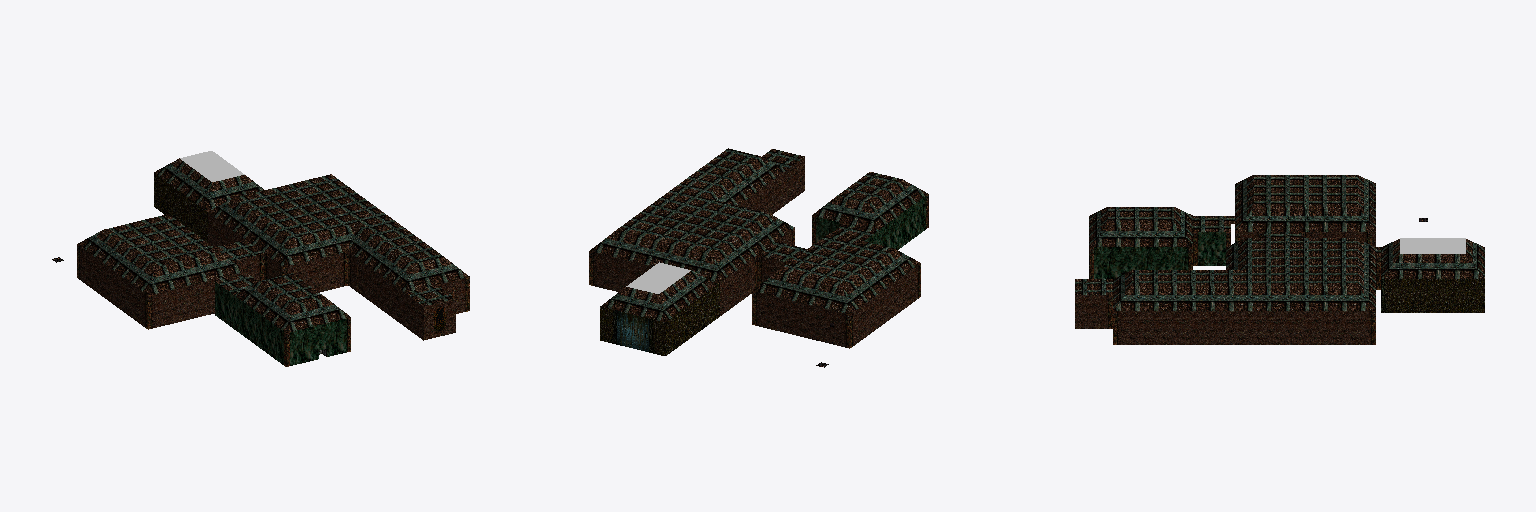
3 renders of one model, left to right at view 1: azimuth 30°, elevation 25°; view 2: azimuth 150°, elevation 25°; view 3: azimuth 270°, elevation 25°, orthographic.
Parts seen in each view (by area): view 1: Room1, Room3, Room2, Room4; view 2: Room1, Room3, Room4, Room2; view 3: Room1, Room3, Room2, Room4.
Boxes of the visible parts, x1=… form: Room1: x1=208, y1=174, x2=469, y2=340; Room3: x1=77, y1=214, x2=263, y2=329; Room2: x1=213, y1=273, x2=350, y2=366; Room4: x1=154, y1=151, x2=263, y2=242; Room1: x1=589, y1=148, x2=804, y2=315; Room3: x1=752, y1=233, x2=920, y2=348; Room4: x1=600, y1=262, x2=719, y2=355; Room2: x1=812, y1=172, x2=928, y2=249; Room1: x1=1075, y1=238, x2=1375, y2=344; Room3: x1=1235, y1=175, x2=1375, y2=246; Room2: x1=1089, y1=207, x2=1234, y2=278; Room4: x1=1376, y1=238, x2=1484, y2=312.
Size of the model in its own units: 2048 by 384 by 2784.
Materials: 22 (20 with a texture image).